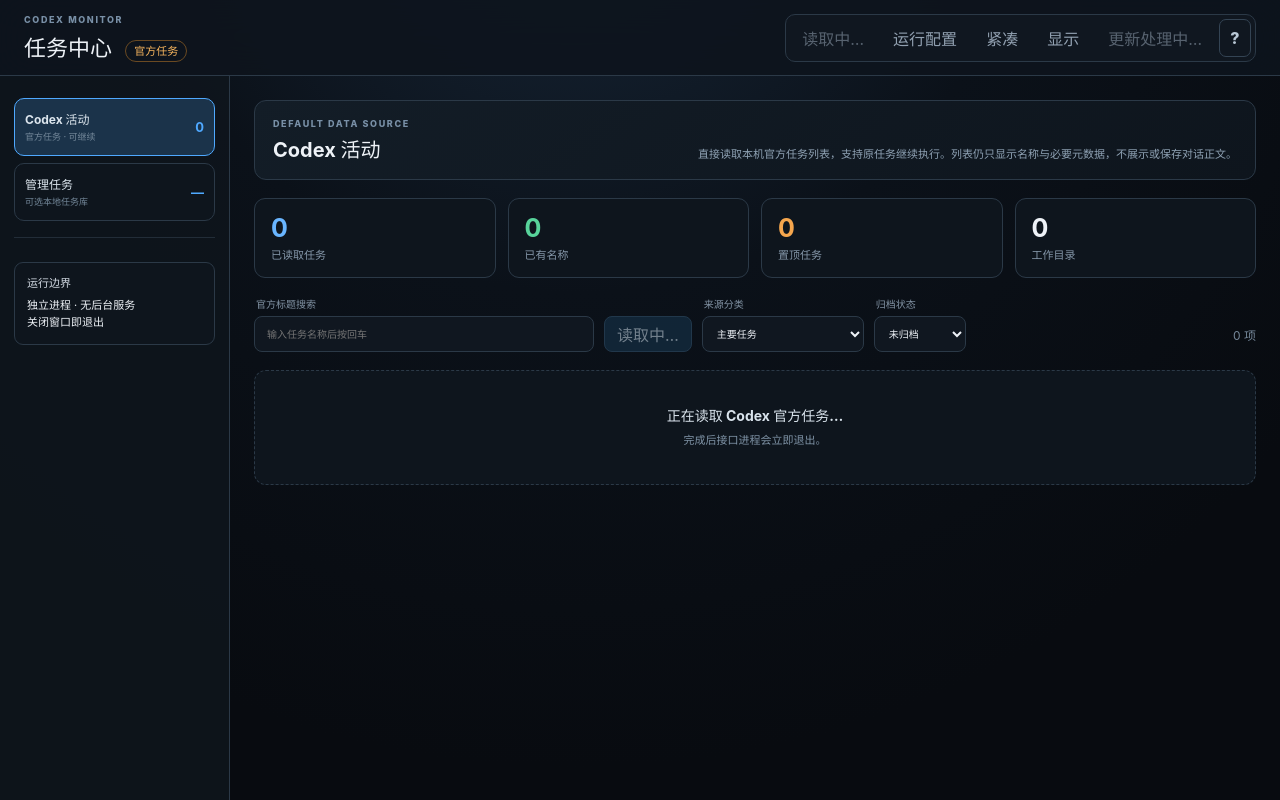
Test: 任务中心核心流程 › 关闭详情后丢弃尚未返回的 Codex 历史
Click the button "管理任务 可选本地任务库 —" at (114, 192), box [14, 163, 215, 221]
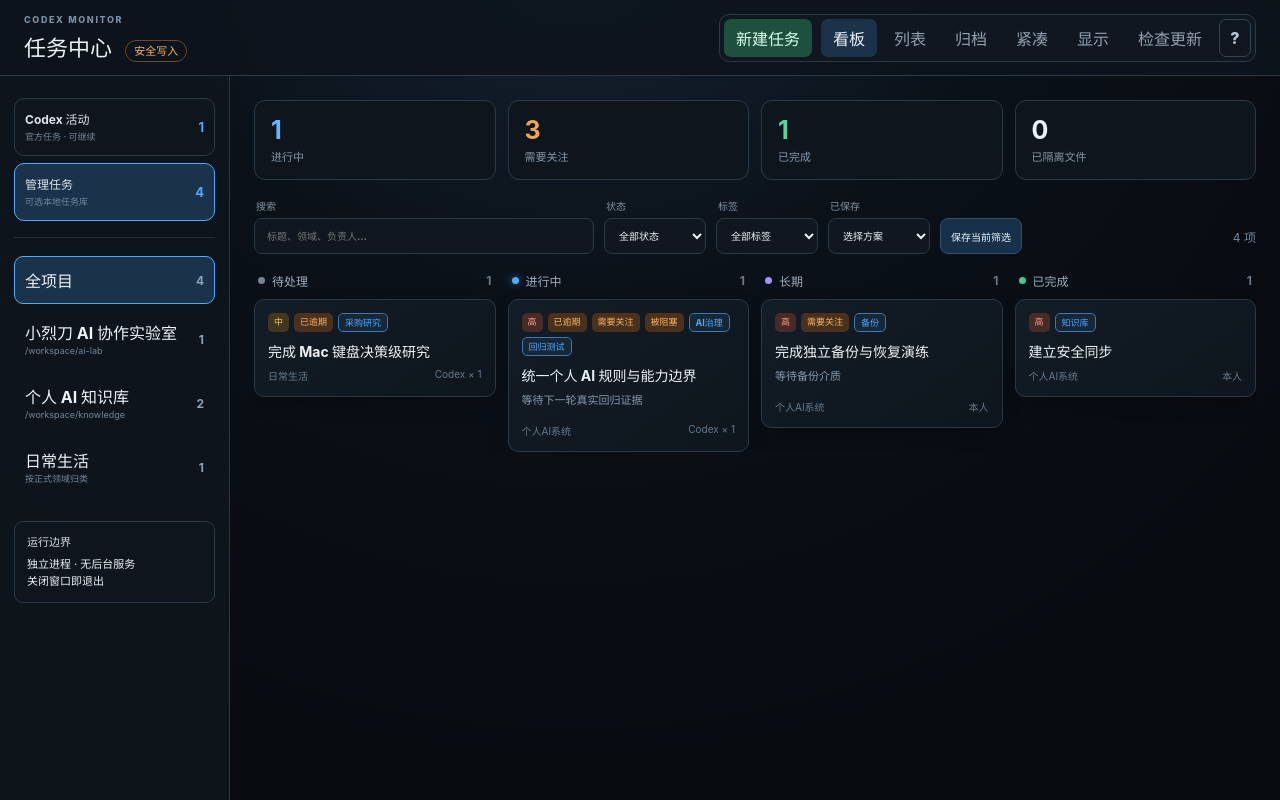
Expected: the heading "统一个人 AI 规则与能力边界" is shown, [522, 367, 696, 384]
Click the button "统一个人 AI 规则与能力边界" at (628, 375), box [508, 299, 749, 452]
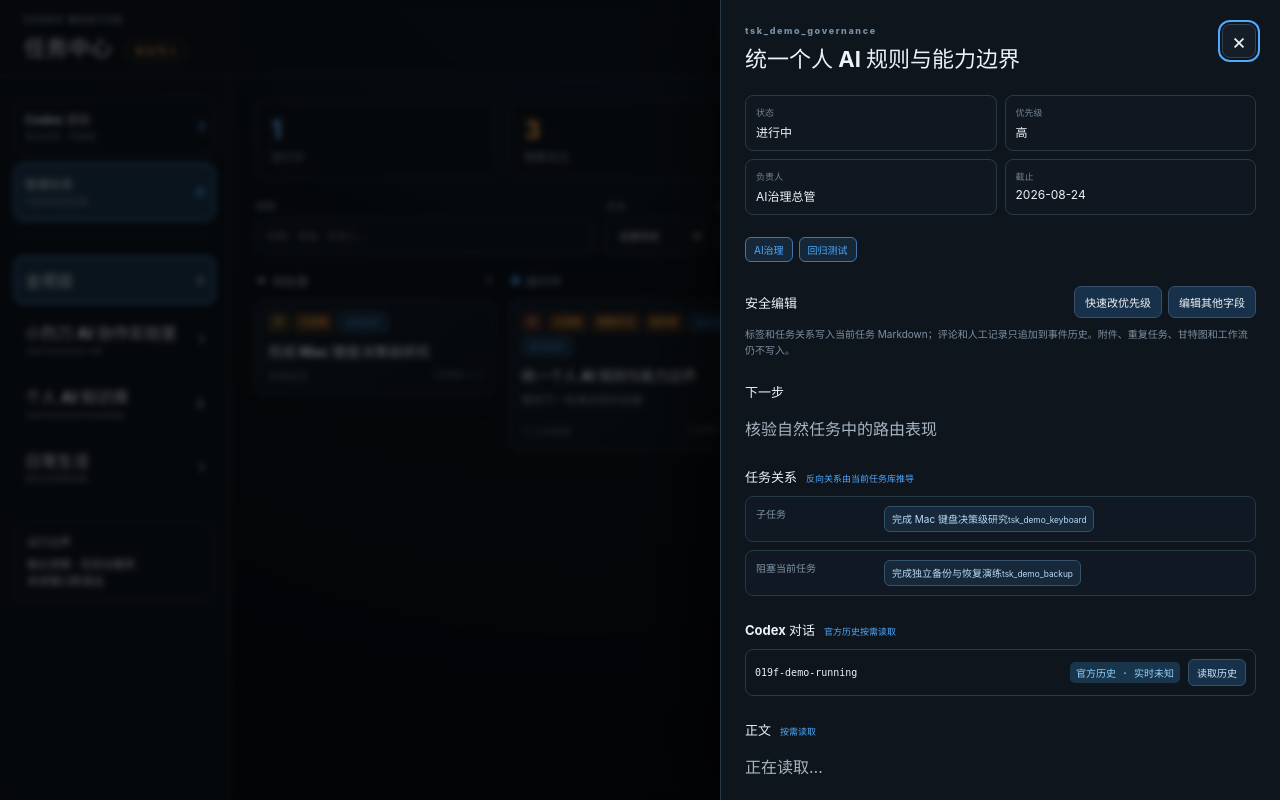
Click the button "读取历史" at (1217, 673), box [1188, 659, 1246, 686]
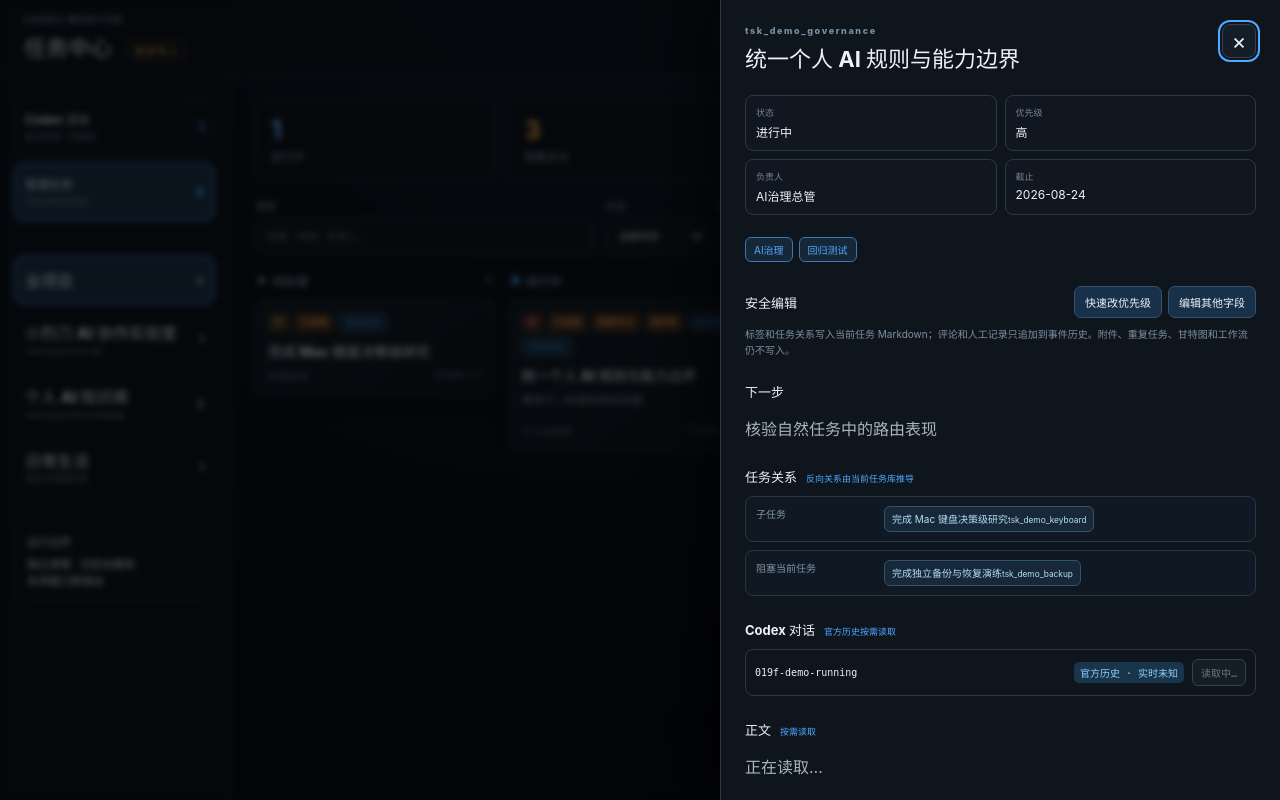
Click the button named "关闭详情" at (1239, 41), box [1222, 24, 1256, 58]
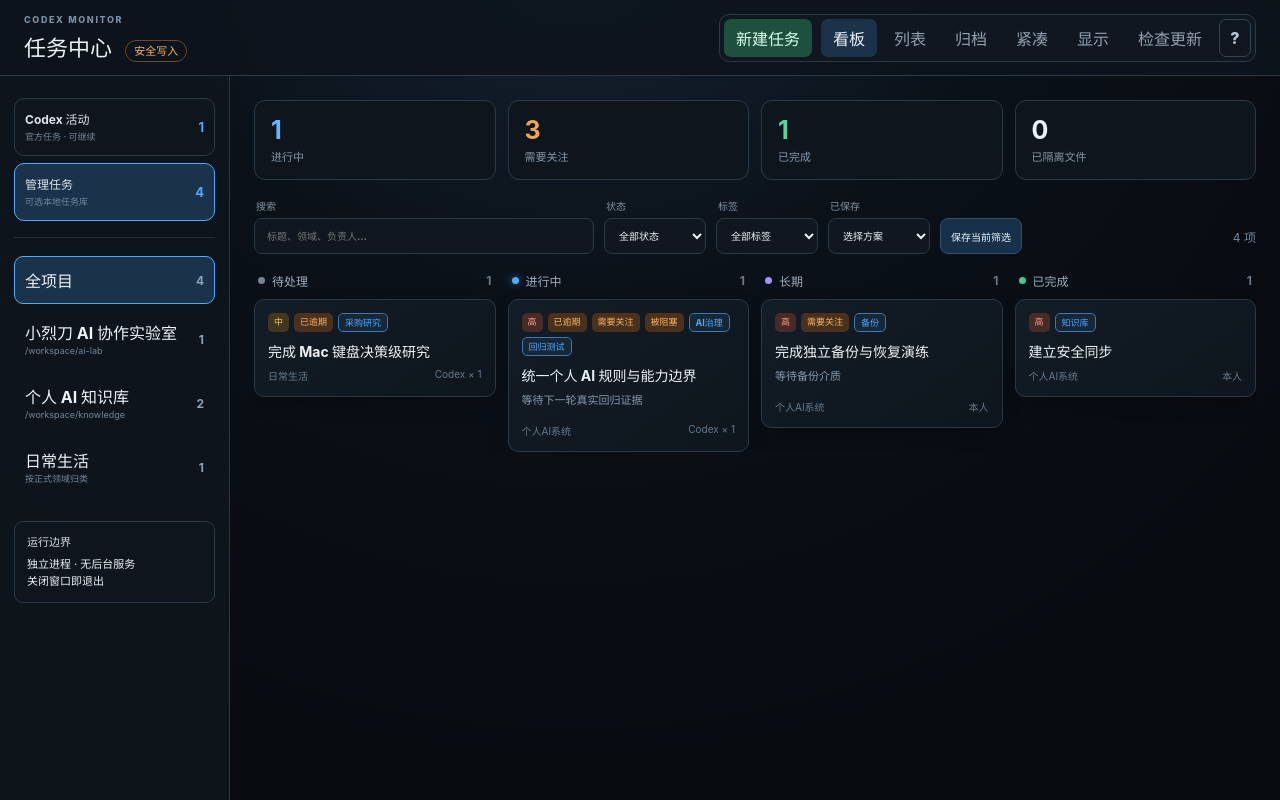
Expected: the dialog is gone
